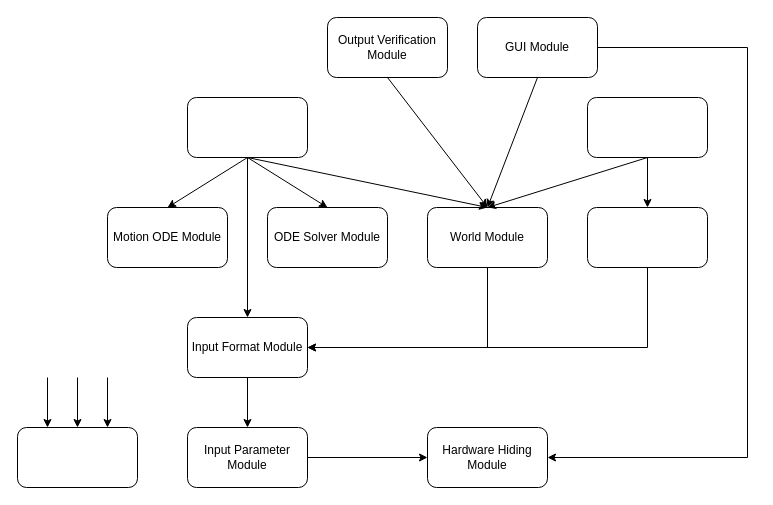
The diagram is 773 pixels wide and 505 high, and some of its shapes have lost their labels. The box of each missing label's shape, as (x1, y1, x2, y2) in pixels:
Controller Module: (586, 96, 708, 158)
Fuzzy Logic Module: (586, 206, 708, 268)
Sequence Data Structure Module: (16, 426, 138, 488)
Simulator Module: (186, 96, 308, 158)
